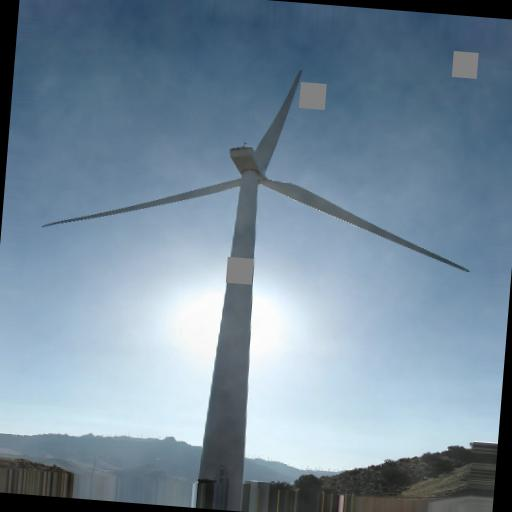wind turbine: (42, 70, 470, 469)
